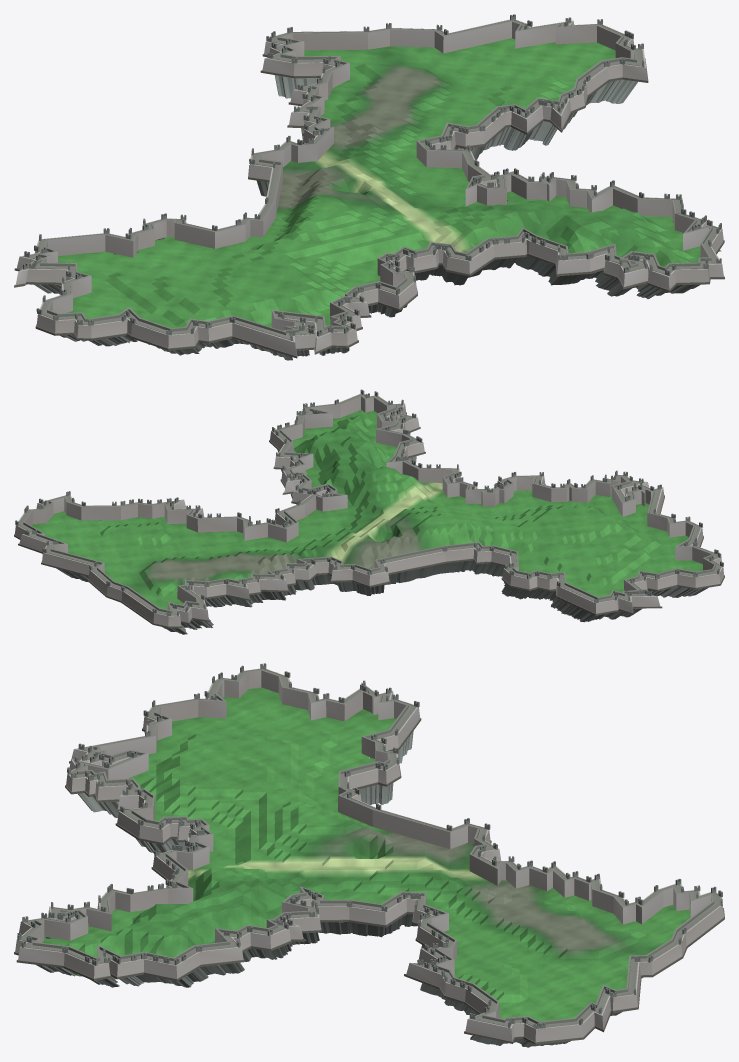
3 views of the same model, one above another, from view 1: azimuth 30°, elevation 25°; view 2: azimuth 150°, elevation 25°; view 3: azimuth 270°, elevation 25° (orthographic). The views are drawn at different scales.
Visible parts, largest first — view 1: ground_df9557c1; view 2: ground_df9557c1; view 3: ground_df9557c1.
Boxes of the visible parts, x1,y1,x2,y2 form: ground_df9557c1: (14,14,724,360); ground_df9557c1: (14,389,724,634); ground_df9557c1: (14,663,724,1047).
Size of the model in its own units: 163 by 8.14 by 135.
Materials: 3 (1 with a texture image).
